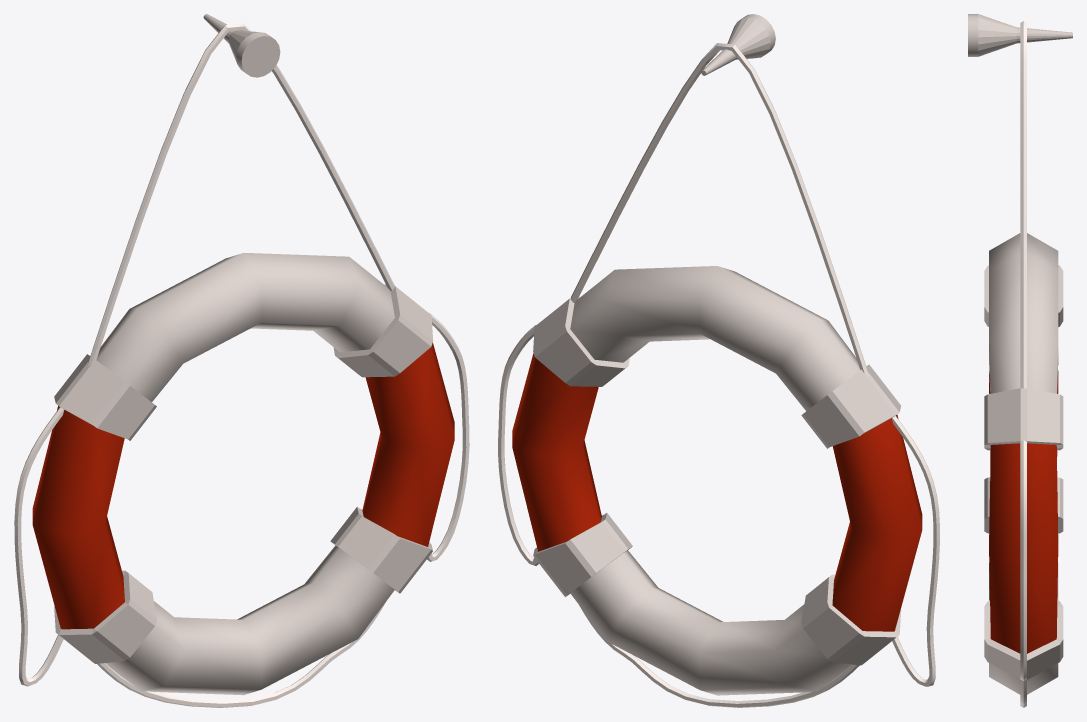
Rendered from Flotador.fbx.
3 renders of one model, left to right at view 1: azimuth 30°, elevation 25°; view 2: azimuth 150°, elevation 25°; view 3: azimuth 270°, elevation 25°, orthographic. The views are drawn at different scales.
Visible parts, largest first — view 1: Flotador, Line001, Line006, Line007, Cylinder001, Line005; view 2: Flotador, Line001, Line006, Line007, Cylinder001, Line005; view 3: Flotador, Line001, Cylinder001, Line005.
Boxes of the visible parts, x1=… form: Flotador: x1=32, y1=253, x2=454, y2=695; Line001: x1=87, y1=23, x2=394, y2=366; Line006: x1=14, y1=407, x2=64, y2=686; Line007: x1=97, y1=601, x2=386, y2=707; Cylinder001: x1=203, y1=14, x2=280, y2=77; Line005: x1=427, y1=313, x2=469, y2=561; Flotador: x1=512, y1=266, x2=922, y2=695; Line001: x1=570, y1=43, x2=868, y2=375; Line006: x1=891, y1=415, x2=939, y2=686; Line007: x1=579, y1=605, x2=859, y2=707; Cylinder001: x1=701, y1=14, x2=775, y2=75; Line005: x1=498, y1=324, x2=538, y2=565; Flotador: x1=984, y1=233, x2=1063, y2=694; Line001: x1=1020, y1=21, x2=1026, y2=389; Cylinder001: x1=968, y1=14, x2=1072, y2=56; Line005: x1=1020, y1=440, x2=1026, y2=680.
Size of the model in its own units: 5.51 by 8.04 by 1.15.
